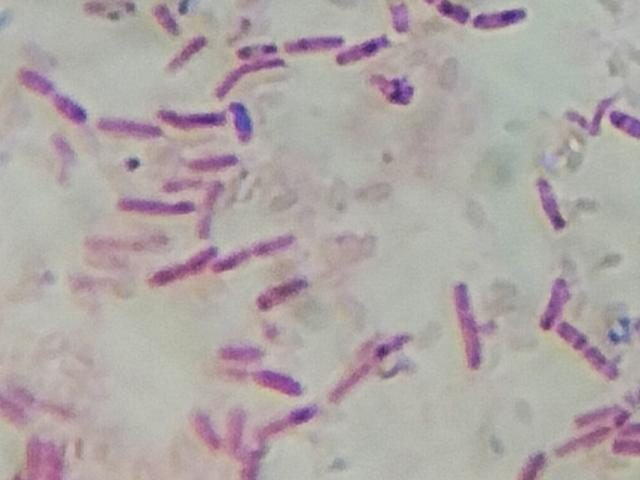E. coli: (562, 322, 625, 376), (456, 280, 487, 373), (214, 241, 304, 270), (140, 244, 210, 280), (119, 190, 186, 219), (156, 105, 224, 132), (252, 408, 322, 434), (250, 277, 308, 308), (538, 175, 566, 235), (334, 30, 385, 61), (539, 271, 567, 326), (372, 70, 416, 104), (253, 368, 300, 399), (217, 64, 274, 89), (100, 115, 154, 141), (554, 436, 611, 459), (473, 10, 529, 32), (167, 37, 203, 70), (53, 87, 82, 124), (376, 331, 414, 359), (573, 405, 621, 427), (287, 32, 342, 51), (220, 342, 260, 367), (611, 103, 640, 137), (225, 405, 248, 447), (432, 0, 472, 23), (22, 66, 51, 94), (194, 412, 217, 447), (154, 2, 180, 32), (194, 155, 235, 174), (524, 444, 544, 480), (389, 0, 410, 30), (619, 411, 640, 439), (617, 436, 640, 459), (240, 44, 273, 58)
